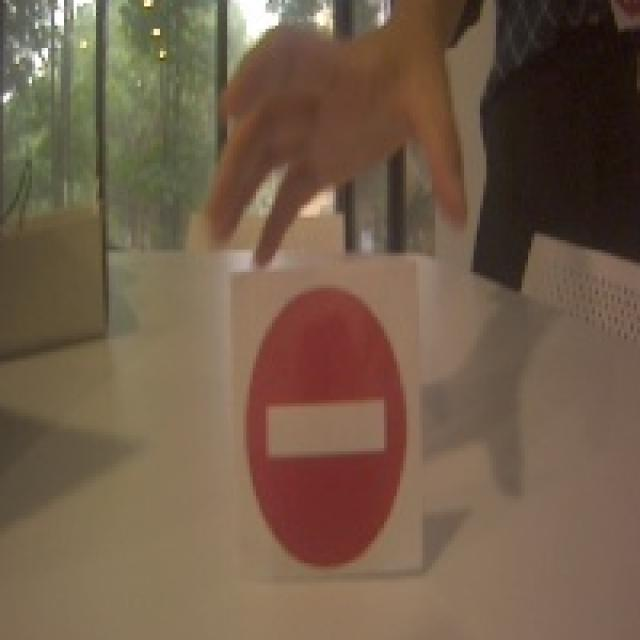DoNotEnterSign: (242, 285, 406, 571)
